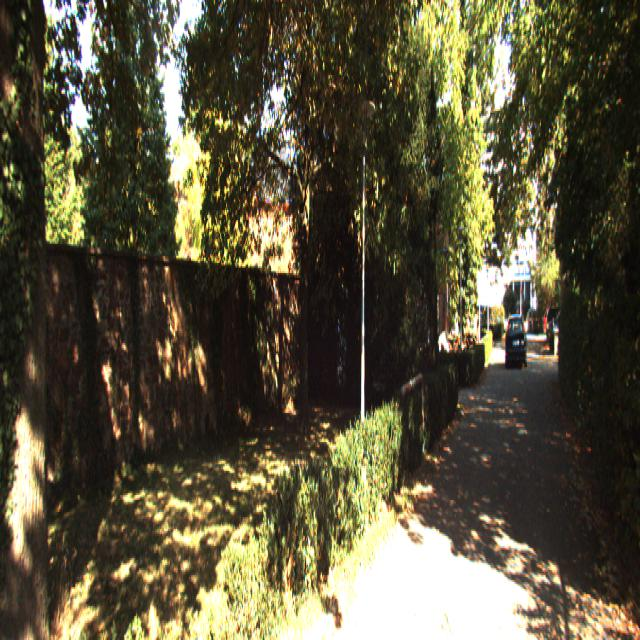Car: (506, 310, 527, 368)
